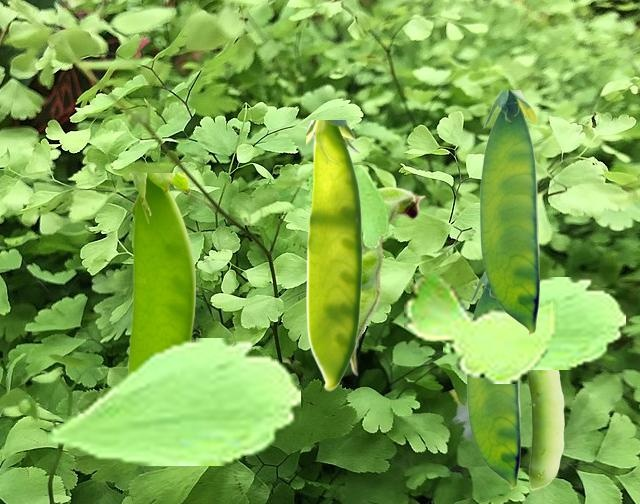pea: (306, 120, 362, 390), (348, 186, 425, 375), (479, 90, 538, 334), (128, 173, 194, 369), (466, 272, 519, 488), (527, 369, 563, 489)
